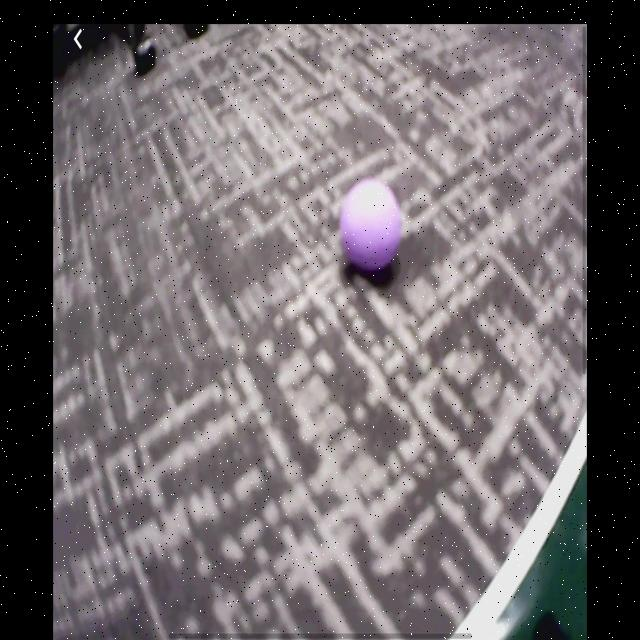ball: (342, 184, 403, 271)
